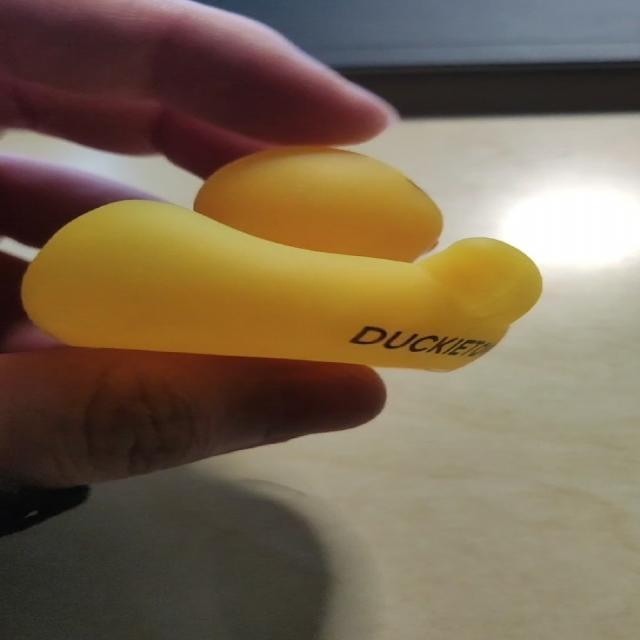rubber-duck: (21, 199, 540, 368)
